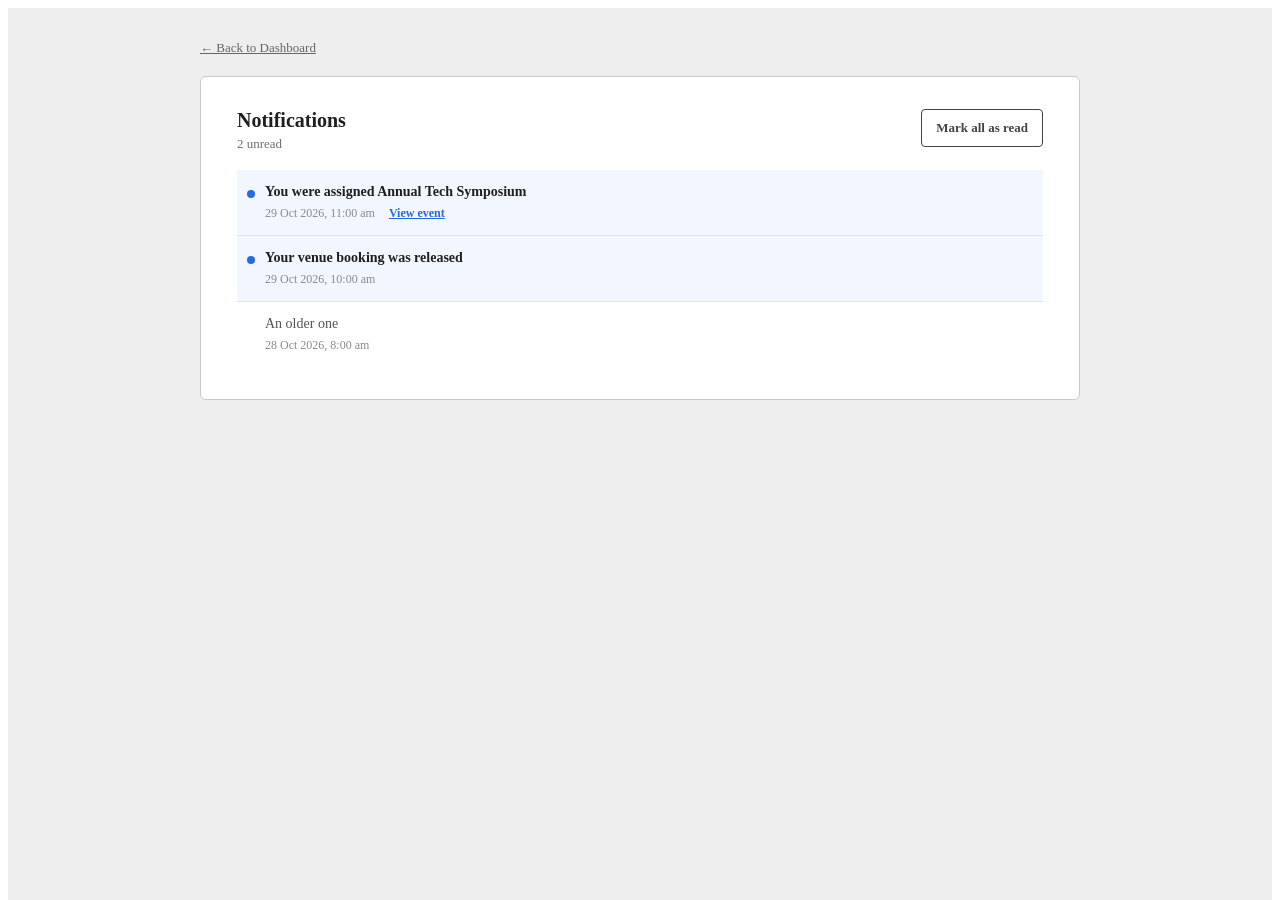
Test: NotificationsView › keeps the item unread and says so when marking it read fails
The width and height of the screenshot is (1280, 900).
Click the button with test id "message" that starts with "Your venue booking was released": click(364, 258) 265,250 -> 463,266
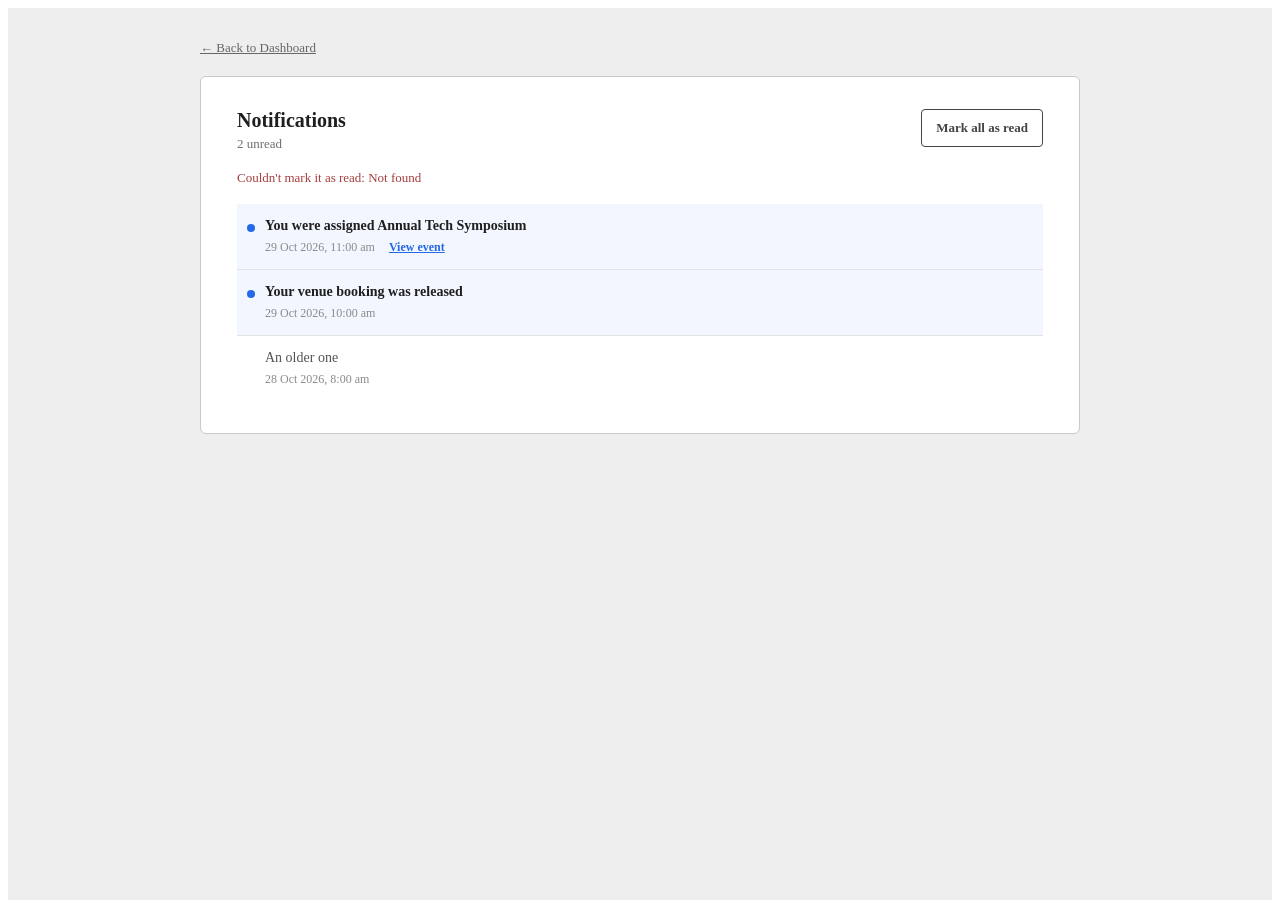
Expected: the text with test id "unread-summary" reads "2 unread", 237,136 -> 282,151
Now the message "Couldn't mark it as read: Not found" is shown, box 237,170 -> 421,185
